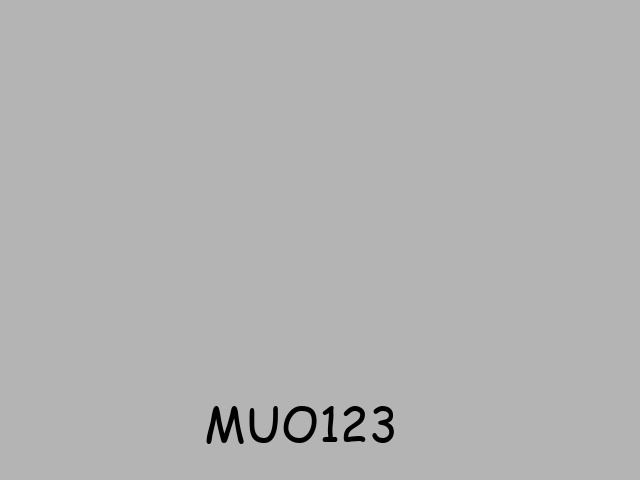OCR_AREA: (200, 402, 402, 448)
